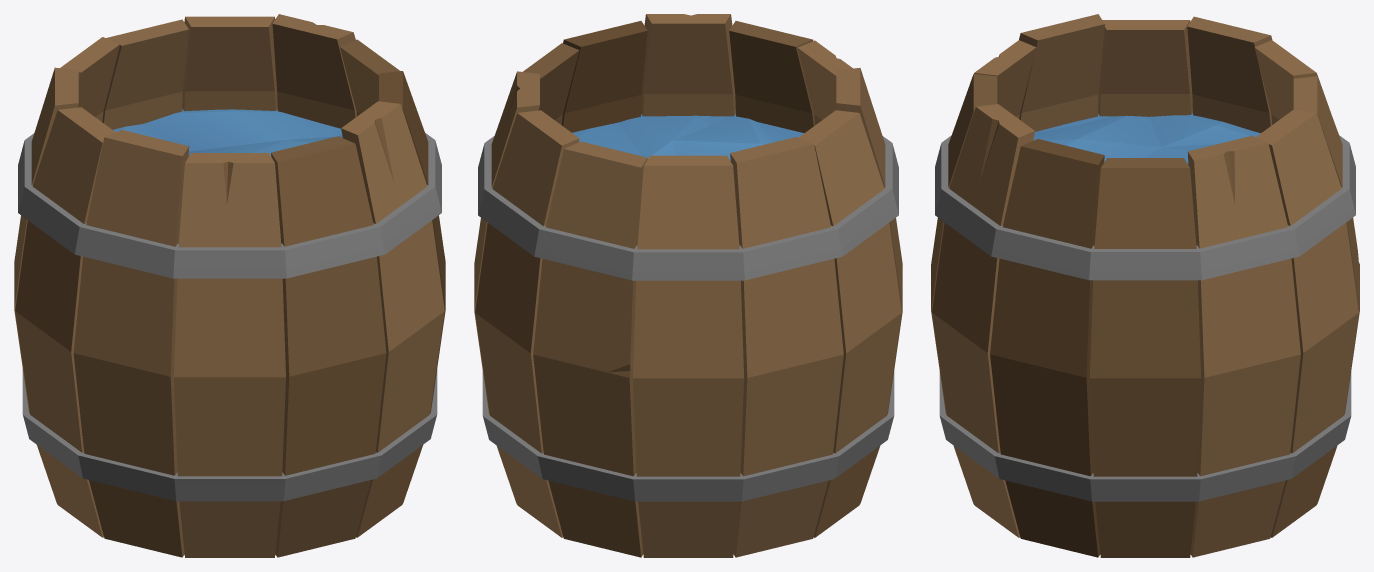
File: Mesh_Props_Barrel_04.FBX
3 renders of one model, left to right at view 1: azimuth 30°, elevation 25°; view 2: azimuth 150°, elevation 25°; view 3: azimuth 270°, elevation 25°, orthographic.
Visible parts, largest first — view 1: Mesh_Props_Barrel_04; view 2: Mesh_Props_Barrel_04; view 3: Mesh_Props_Barrel_04.
Boxes of the visible parts, box(x1,y1,x2,y2) form: Mesh_Props_Barrel_04: box(14, 14, 445, 557); Mesh_Props_Barrel_04: box(474, 14, 902, 557); Mesh_Props_Barrel_04: box(931, 14, 1359, 557).
Size of the model in its own units: 29.48 by 30.29 by 29.48.
